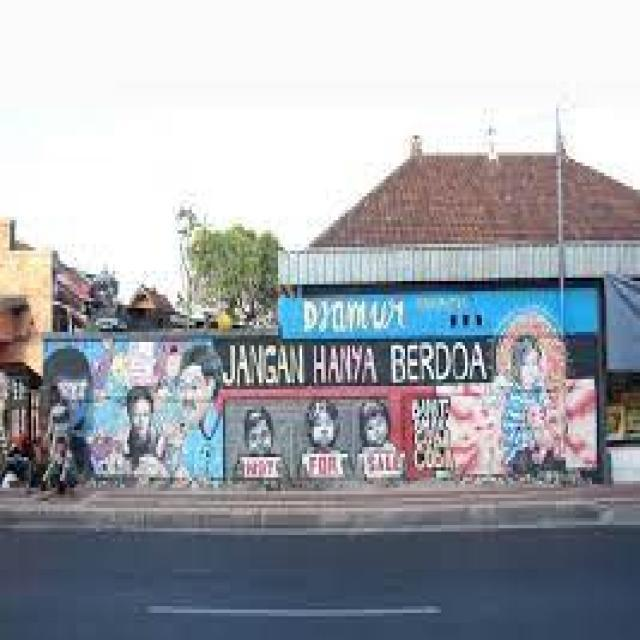-: (228, 314, 598, 480), (43, 339, 224, 485), (2, 360, 42, 490), (302, 298, 408, 328)
